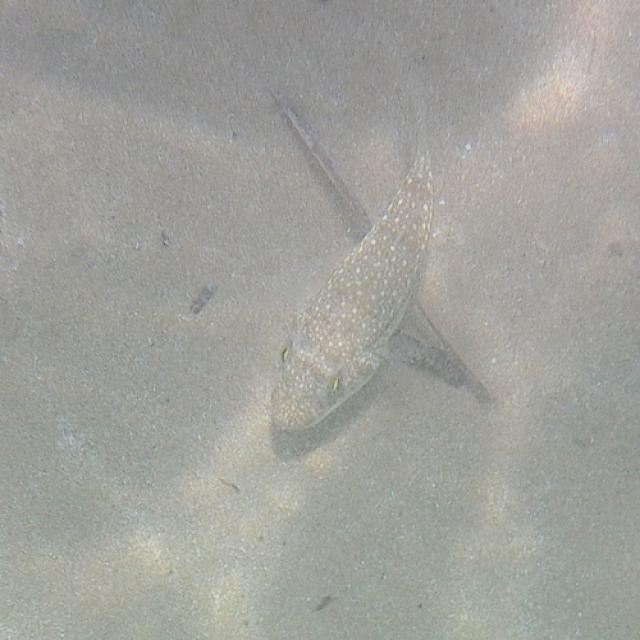Balik: (272, 156, 432, 430)
